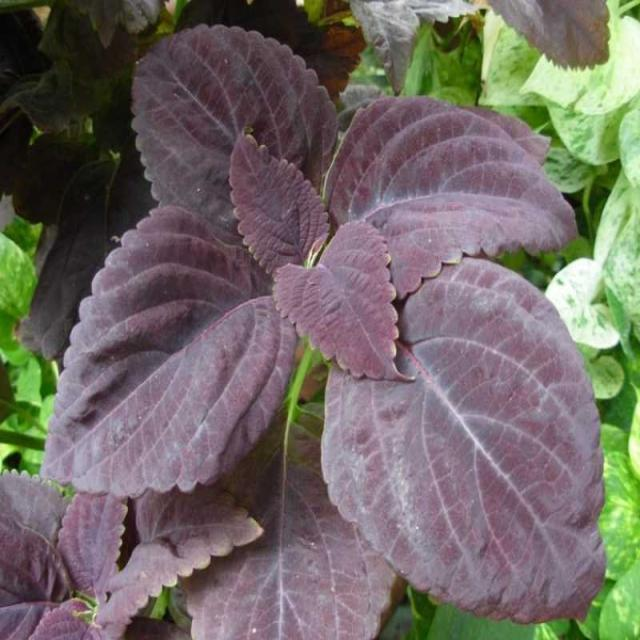Coleus: (84, 55, 601, 589)
